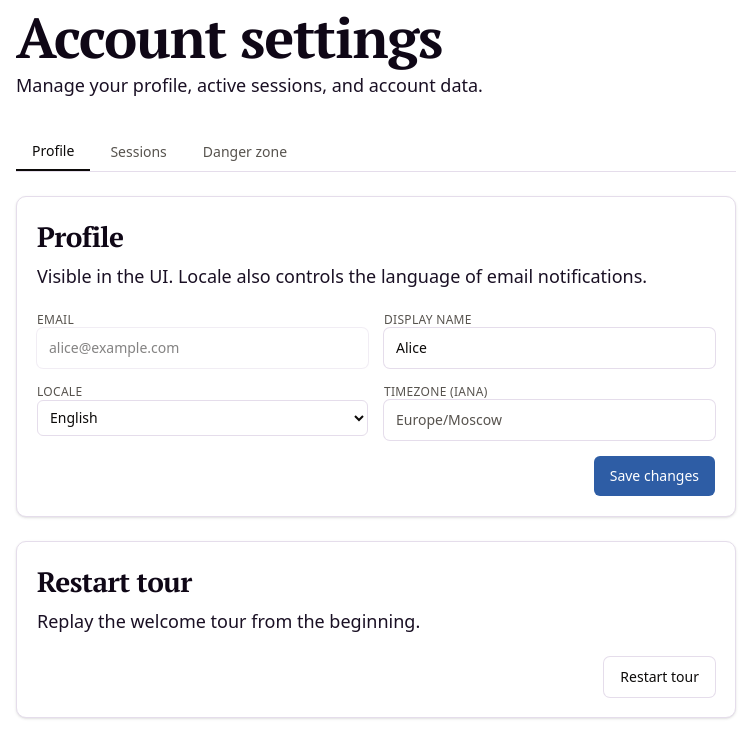
Scenario: settings page — tabs › switches to Danger zone tab
The image size is (753, 736).
Step 1. Click the tab with test id "tab-danger" → (245,152), box 187,133 -> 303,171
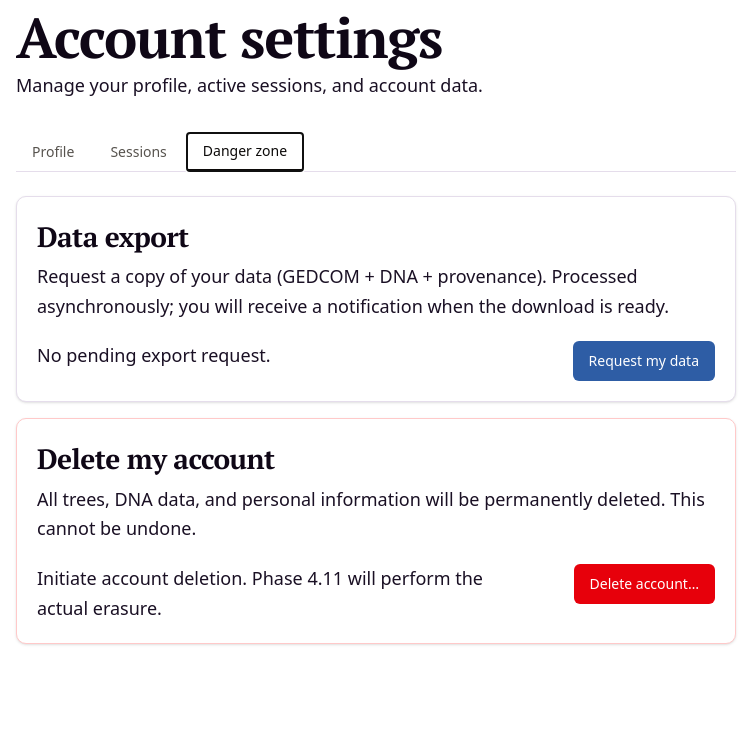
Now the button with test id "open-delete-modal" is shown, box 574,564 -> 715,604
Now the button with test id "export-request" is shown, box 573,341 -> 715,381
